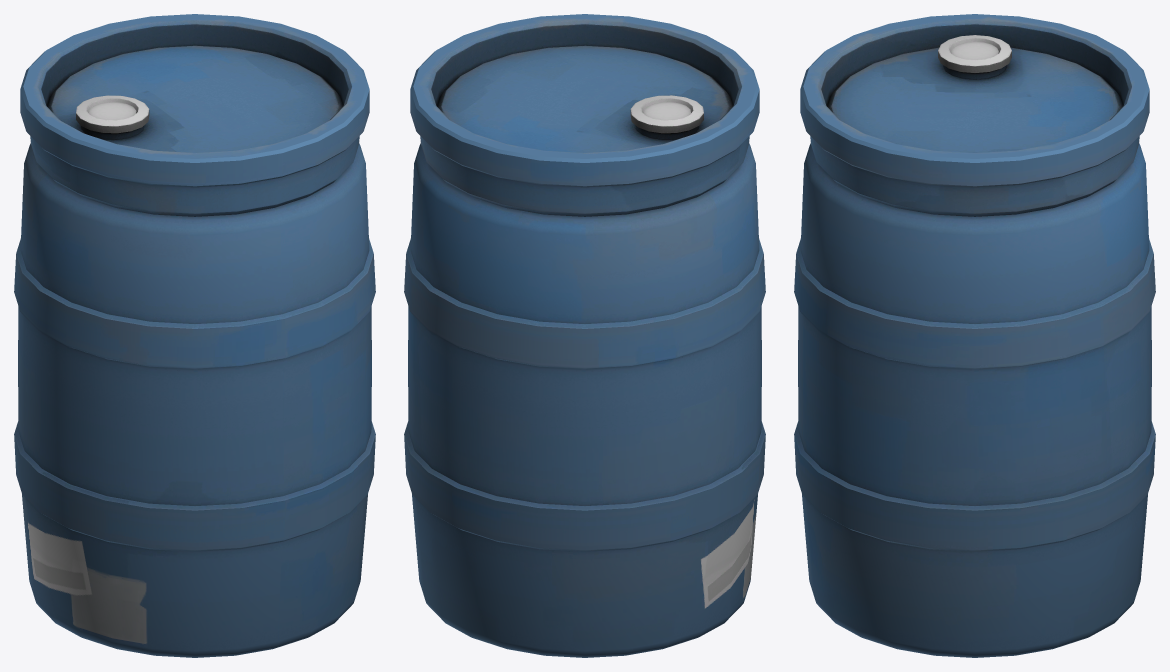
Rendered from water_barrel.glb.
The picture shows the model from 3 angles, left to right: view 1: azimuth 30°, elevation 25°; view 2: azimuth 150°, elevation 25°; view 3: azimuth 270°, elevation 25°; orthographic projection.
Visible parts, largest first — view 1: water_barrel; view 2: water_barrel; view 3: water_barrel.
Part boxes in pixels (left/top/right/bottom): water_barrel: left=14, top=14, right=375, bottom=657; water_barrel: left=404, top=14, right=765, bottom=657; water_barrel: left=794, top=14, right=1155, bottom=657.
Bounding box in the file's own units: 0.9837 × 1.52 × 0.9837.
1 material, 1 textured.
